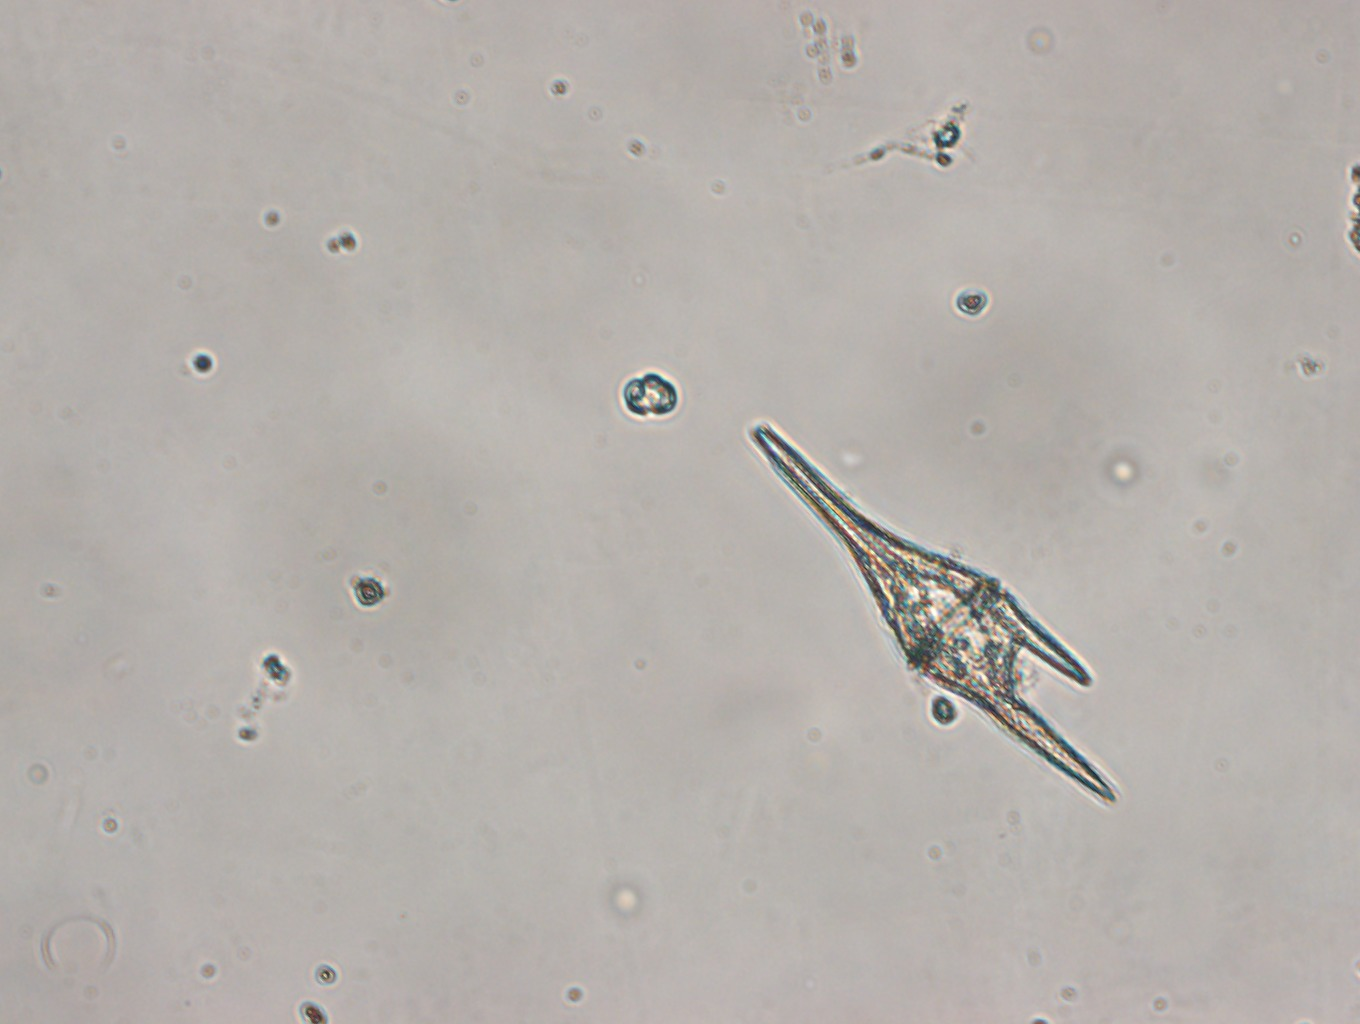ceratium furca: (742, 415, 1123, 807)
